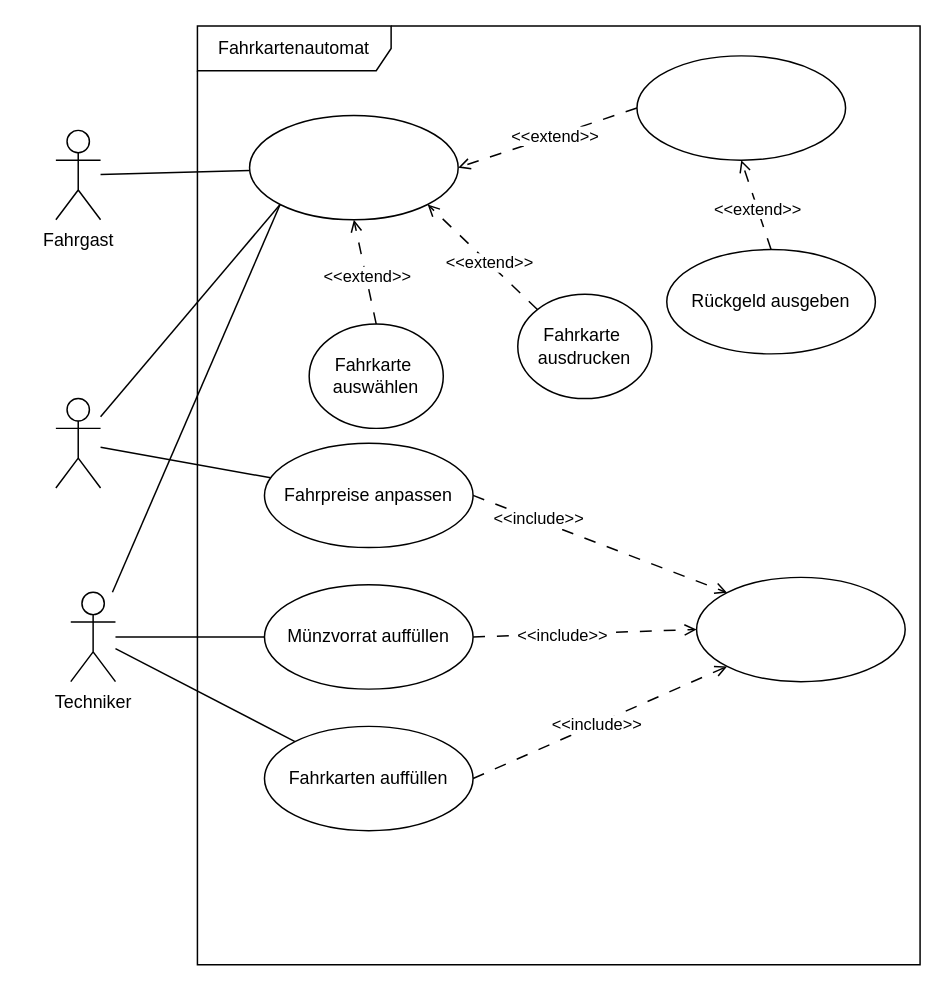
Image size: 946x991. Some labels were removed from this diagram. Each missing label, with the centre of its shape:
"Administrator" belongs at (77,442).
"Berechtigung prüfen" belongs at (800,629).
"Fahrkarte kaufen" belongs at (353,167).
"Geld entgegennehmen" belongs at (740,107).
